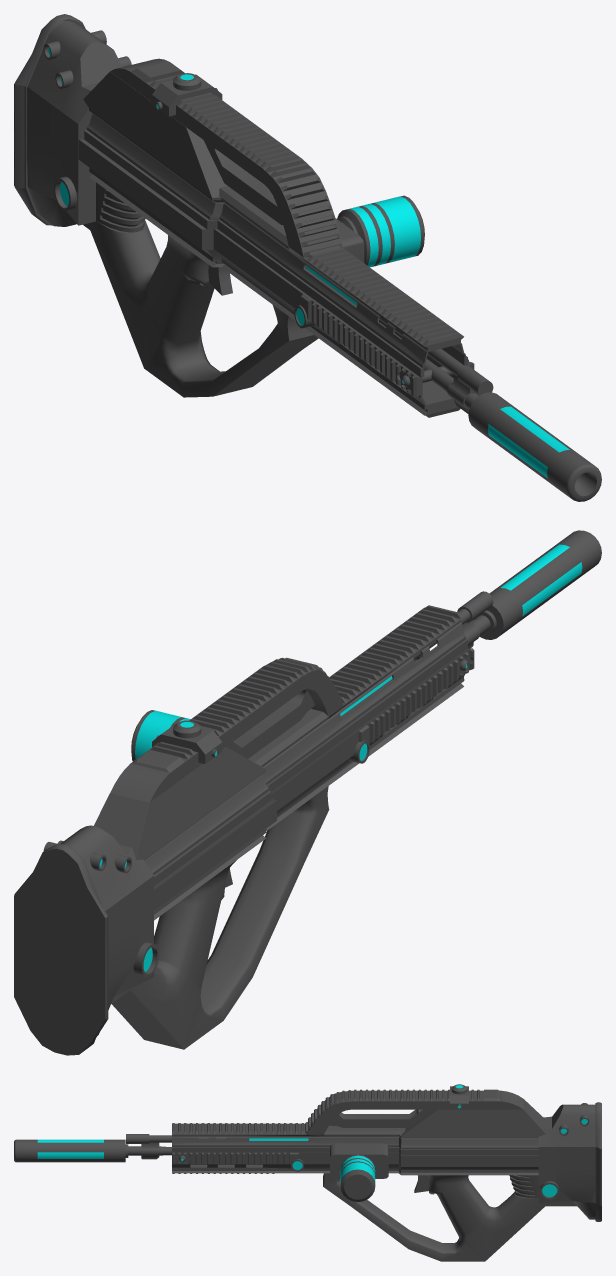
3 views of the same model, one above another, from view 1: azimuth 30°, elevation 25°; view 2: azimuth 150°, elevation 25°; view 3: azimuth 270°, elevation 25° (orthographic). The views are drawn at different scales.
Parts seen in each view (by area): view 1: AR_low4; view 2: AR_low4; view 3: AR_low4.
Part boxes in pixels (left/top/right/bottom): AR_low4: left=14, top=14, right=601, bottom=501; AR_low4: left=14, top=530, right=601, bottom=1055; AR_low4: left=14, top=1084, right=601, bottom=1261.
Bounding box in the file's own units: 0.2043 × 0.3272 × 1.03.
